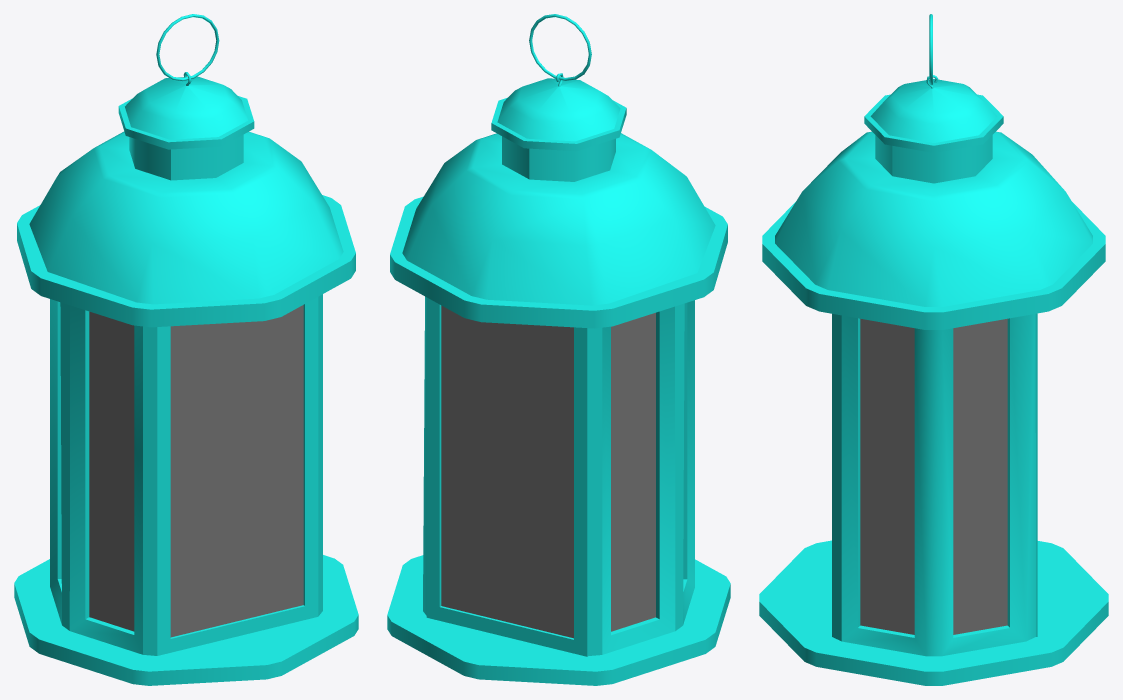
File: C-lamp.FBX
The picture shows the model from 3 angles, left to right: view 1: azimuth 30°, elevation 25°; view 2: azimuth 150°, elevation 25°; view 3: azimuth 270°, elevation 25°; orthographic projection.
Visible parts, largest first — view 1: !!!Circle008; view 2: !!!Circle008; view 3: !!!Circle008.
Part boxes in pixels (bbox=[...]): !!!Circle008: bbox=[14, 14, 358, 685]; !!!Circle008: bbox=[387, 14, 730, 685]; !!!Circle008: bbox=[759, 14, 1108, 685].
Size of the model in its own units: 18.02 by 18.04 by 33.86.
